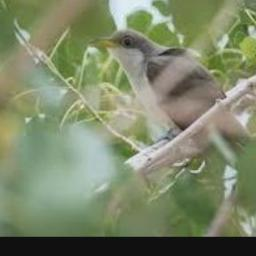Cuckoo: (89, 28, 249, 171)
